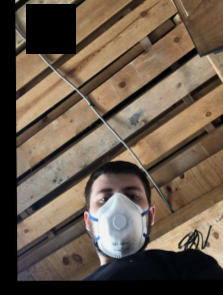with_mask: (90, 179, 150, 258)
